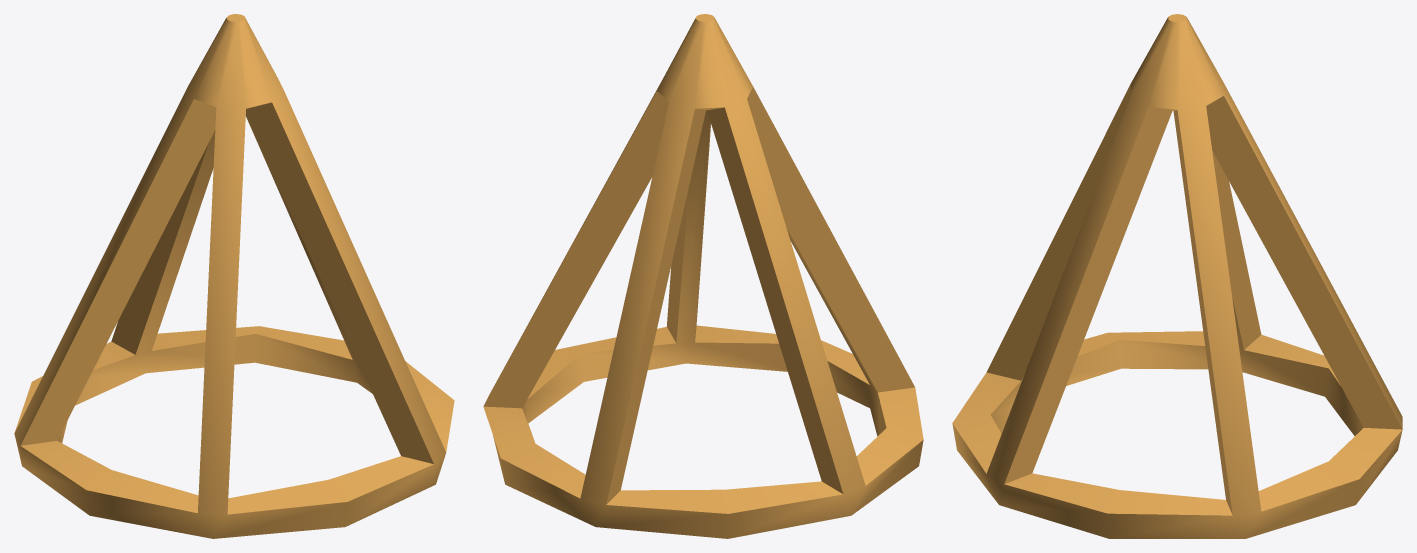
File: ConeMesh_03.fbx
The picture shows the model from 3 angles, left to right: view 1: azimuth 30°, elevation 25°; view 2: azimuth 150°, elevation 25°; view 3: azimuth 270°, elevation 25°; orthographic projection.
Visible parts, largest first — view 1: ConeMesh_03; view 2: ConeMesh_03; view 3: ConeMesh_03.
Part boxes in pixels (x1,y1,x2,y2): ConeMesh_03: [14, 14, 454, 538]; ConeMesh_03: [483, 14, 923, 538]; ConeMesh_03: [952, 14, 1402, 538].
Size of the model in its own units: 278 by 303 by 287.
